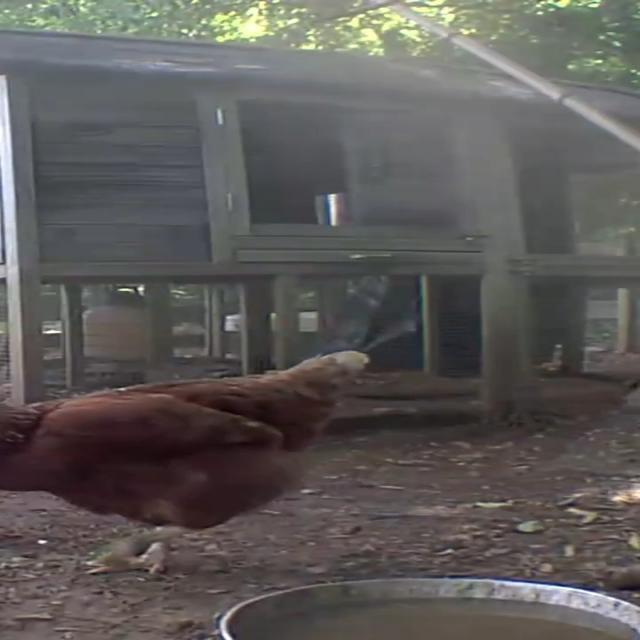walking: (0, 325, 385, 585)
